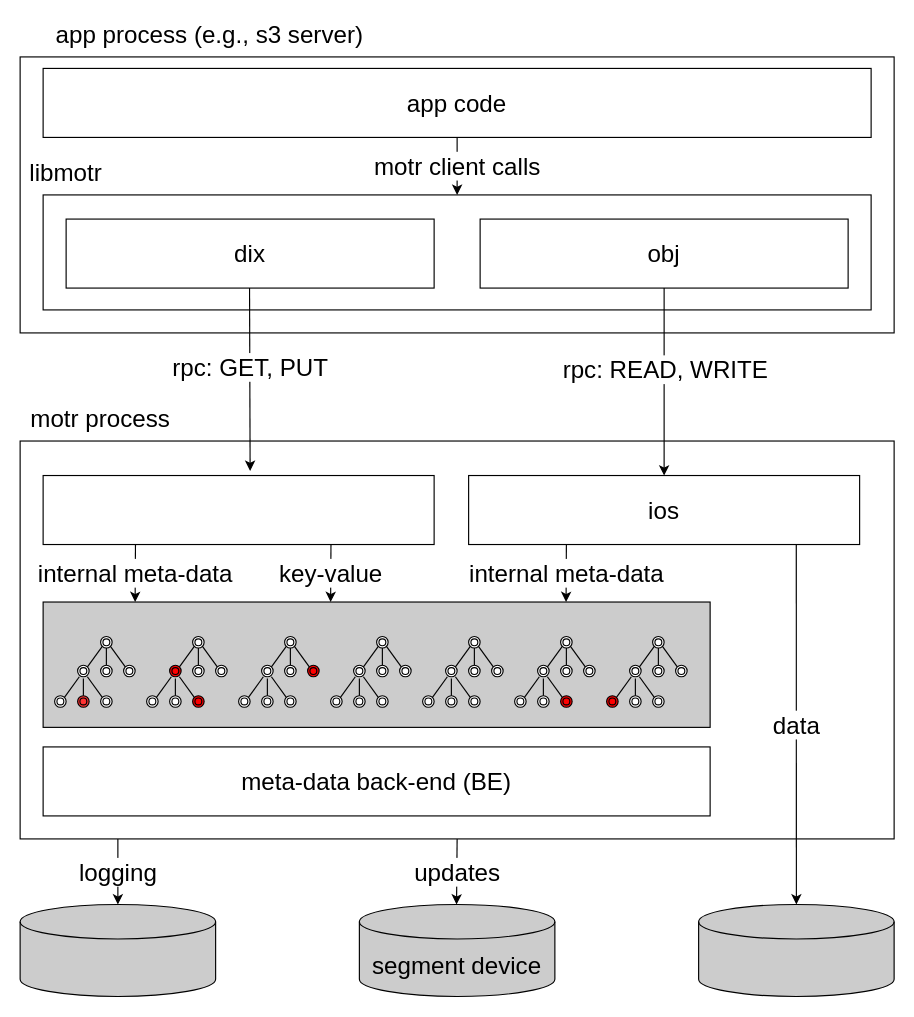
Image size: 914x1017. Some labels were removed from this diagram. The centre of each missing label's shape, as x and y in pixels:
"cas" belongs at point (238, 509).
"data device" belongs at point (795, 949).
"log device" belongs at point (117, 949).
